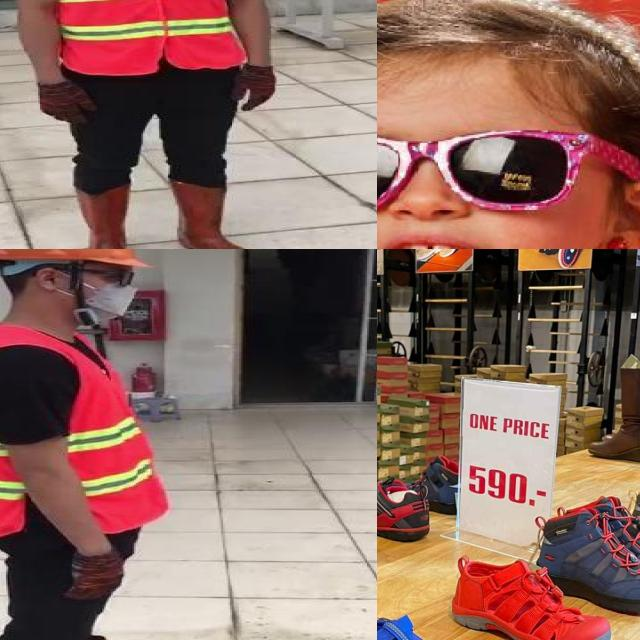No_Ear-Protection: (598, 162, 640, 249)
Sandals: (441, 538, 616, 640), (377, 586, 554, 640)
boots: (171, 179, 260, 249), (72, 181, 134, 249)
face_mask: (50, 263, 146, 326)
face_nomask: (377, 126, 576, 249)
glasses: (377, 118, 640, 207)
hand_glove: (63, 551, 127, 599), (40, 83, 97, 126), (234, 66, 276, 111)
head_helmet: (0, 249, 149, 271)
head_nohelmet: (377, 0, 640, 97)
person: (0, 249, 207, 640), (0, 0, 289, 249), (377, 0, 640, 249)
vest: (0, 323, 166, 536), (45, 0, 246, 73)
